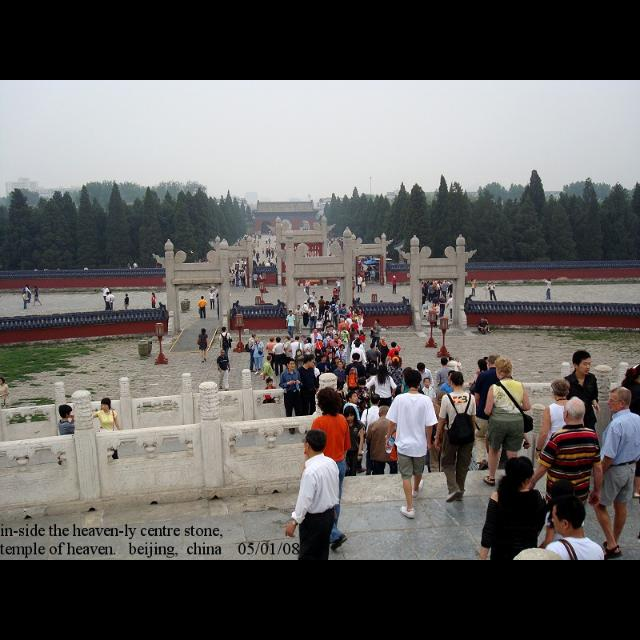head: (550, 497, 586, 537), (505, 456, 535, 490), (606, 386, 634, 414), (550, 480, 576, 508), (563, 398, 587, 424), (304, 429, 328, 455), (573, 350, 593, 376), (317, 389, 338, 413), (552, 378, 570, 402), (404, 368, 424, 389), (496, 358, 514, 380), (450, 371, 466, 389), (345, 406, 359, 424), (487, 354, 501, 368), (60, 406, 74, 418), (378, 406, 392, 418), (370, 394, 382, 406), (347, 392, 359, 404), (101, 398, 111, 412), (402, 368, 413, 380), (448, 371, 458, 384), (438, 393, 447, 407), (418, 362, 427, 376), (304, 357, 314, 368), (358, 379, 368, 389), (357, 378, 367, 388), (287, 360, 297, 370), (335, 382, 345, 392), (440, 358, 450, 367), (423, 378, 432, 388), (379, 366, 388, 376), (392, 357, 400, 365), (353, 354, 361, 362), (320, 356, 328, 364), (268, 379, 274, 388), (0, 378, 6, 386), (338, 362, 344, 370), (335, 356, 341, 364), (310, 362, 316, 370), (221, 350, 227, 358), (449, 356, 455, 362), (394, 351, 400, 357), (391, 342, 397, 348), (371, 344, 377, 350), (380, 337, 386, 343), (374, 319, 380, 325), (355, 343, 361, 349), (268, 356, 274, 362), (202, 329, 208, 335), (252, 333, 258, 339), (255, 339, 261, 345), (271, 337, 277, 343), (276, 337, 282, 343), (285, 336, 291, 342), (295, 337, 301, 343), (340, 345, 346, 351), (326, 334, 332, 340), (355, 334, 361, 340), (313, 329, 319, 335), (340, 318, 346, 324), (358, 314, 364, 320), (354, 312, 360, 318), (342, 325, 346, 331), (360, 309, 364, 315), (350, 308, 356, 312), (289, 311, 293, 317), (297, 304, 301, 310), (312, 306, 318, 310), (481, 318, 485, 324), (442, 294, 446, 300), (34, 286, 38, 290), (106, 292, 110, 296), (222, 328, 226, 332), (201, 296, 205, 300), (210, 290, 214, 294), (361, 332, 365, 336), (352, 328, 356, 332), (353, 319, 357, 323), (347, 315, 351, 319), (342, 304, 346, 308), (318, 318, 322, 322), (324, 312, 328, 316), (304, 301, 308, 305), (321, 297, 325, 301), (332, 302, 336, 306), (548, 278, 552, 282), (125, 294, 128, 298), (436, 294, 439, 298), (24, 292, 28, 294), (30, 286, 32, 290), (110, 292, 112, 296), (104, 286, 108, 288), (152, 294, 156, 296), (312, 293, 316, 295), (328, 310, 332, 312), (336, 288, 338, 292), (256, 272, 258, 276), (358, 276, 362, 278), (484, 320, 488, 322), (492, 282, 494, 286), (472, 280, 476, 282), (450, 295, 452, 299), (307, 280, 309, 282), (339, 280, 341, 282), (394, 275, 396, 277), (486, 284, 488, 286)
person: (382, 366, 442, 524), (302, 385, 354, 555), (480, 355, 538, 493), (534, 376, 588, 510), (432, 370, 480, 504), (560, 348, 604, 479), (472, 352, 516, 476), (82, 396, 125, 479), (364, 403, 401, 495), (333, 404, 367, 492), (428, 389, 458, 483), (358, 393, 389, 481), (338, 388, 369, 476), (362, 365, 398, 439), (279, 357, 307, 439), (437, 369, 467, 445), (295, 354, 321, 434), (57, 403, 83, 477), (348, 376, 374, 444), (352, 376, 376, 446), (343, 352, 369, 412), (410, 361, 436, 419), (399, 365, 423, 423), (384, 356, 408, 414), (435, 355, 457, 409), (418, 377, 438, 423), (261, 377, 279, 428), (303, 359, 321, 408), (316, 354, 334, 400), (348, 341, 368, 382), (331, 380, 349, 424), (215, 348, 232, 394), (384, 340, 404, 378), (332, 359, 350, 401), (258, 354, 276, 396), (244, 332, 262, 374), (288, 335, 306, 377), (364, 342, 384, 378), (249, 336, 267, 376), (374, 335, 392, 373), (218, 326, 235, 366), (330, 356, 348, 392), (368, 316, 384, 354), (264, 335, 280, 373), (336, 324, 352, 362), (272, 336, 286, 378), (0, 376, 12, 424), (388, 350, 404, 384), (197, 327, 211, 365), (310, 326, 324, 362), (446, 356, 462, 386), (282, 334, 294, 372), (337, 316, 351, 348), (322, 332, 336, 362), (286, 309, 298, 343), (334, 343, 348, 372), (351, 333, 365, 362), (308, 304, 320, 336), (348, 325, 360, 355), (330, 300, 342, 330), (446, 294, 458, 324), (306, 291, 318, 319), (294, 304, 304, 336), (100, 284, 112, 310), (197, 295, 209, 321), (344, 314, 356, 340), (317, 295, 329, 321), (542, 276, 554, 302), (355, 312, 365, 342), (300, 300, 310, 330), (32, 284, 44, 308), (487, 280, 499, 304), (348, 318, 359, 344), (338, 302, 348, 330), (438, 292, 448, 320), (431, 292, 441, 320), (357, 330, 367, 356), (325, 308, 335, 332), (470, 278, 482, 298), (356, 308, 366, 330), (321, 310, 331, 332), (108, 290, 116, 316), (21, 290, 31, 310), (331, 288, 341, 308), (352, 311, 361, 333), (208, 288, 216, 312), (482, 280, 490, 304), (478, 318, 488, 337), (104, 292, 112, 314), (123, 292, 131, 314), (347, 305, 355, 327), (26, 285, 34, 305), (150, 292, 158, 312), (303, 278, 311, 298), (356, 274, 364, 294), (391, 274, 399, 294), (483, 318, 493, 334), (316, 317, 324, 335), (251, 272, 259, 290), (334, 278, 342, 294)
